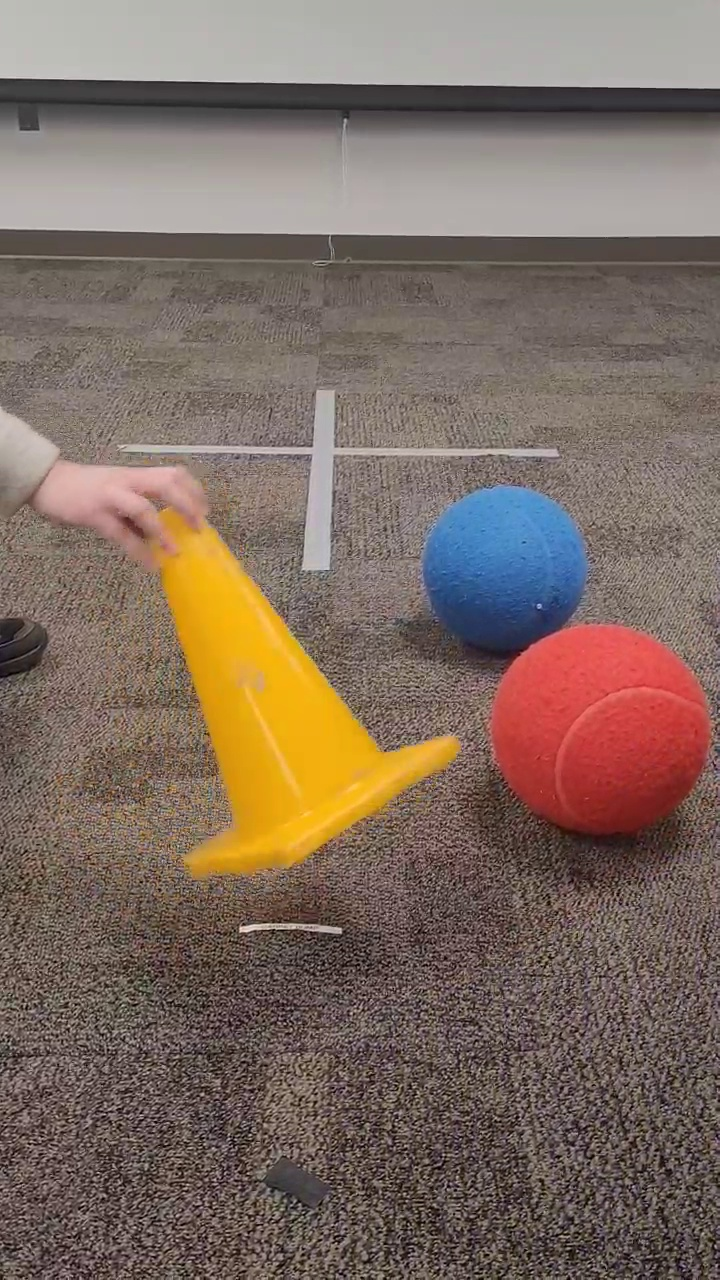ball: (487, 620, 714, 840), (419, 482, 589, 657)
cone: (146, 488, 463, 880)
foot: (1, 610, 52, 682)
hand: (1, 403, 214, 580)
